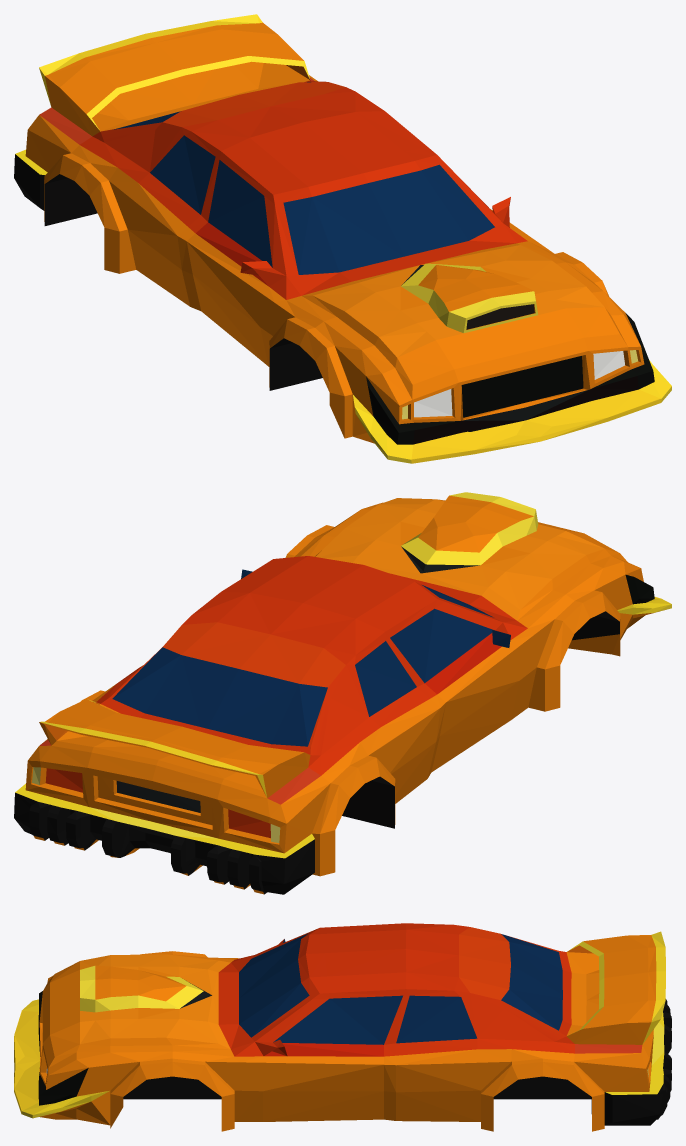
The model's file is FantaCar6600.export..CARblend.glb.
3 views of the same model, one above another, from view 1: azimuth 30°, elevation 25°; view 2: azimuth 150°, elevation 25°; view 3: azimuth 270°, elevation 25° (orthographic). The views are drawn at different scales.
Parts seen in each view (by area): view 1: Car; view 2: Car; view 3: Car.
Part boxes in pixels (x1,y1,x2,y2): Car: (14, 14, 671, 463); Car: (14, 492, 671, 894); Car: (14, 923, 671, 1131).
Bounding box in the file's own units: 4.48 × 2.23 × 10.68.
Materials: 1 (1 with a texture image).
